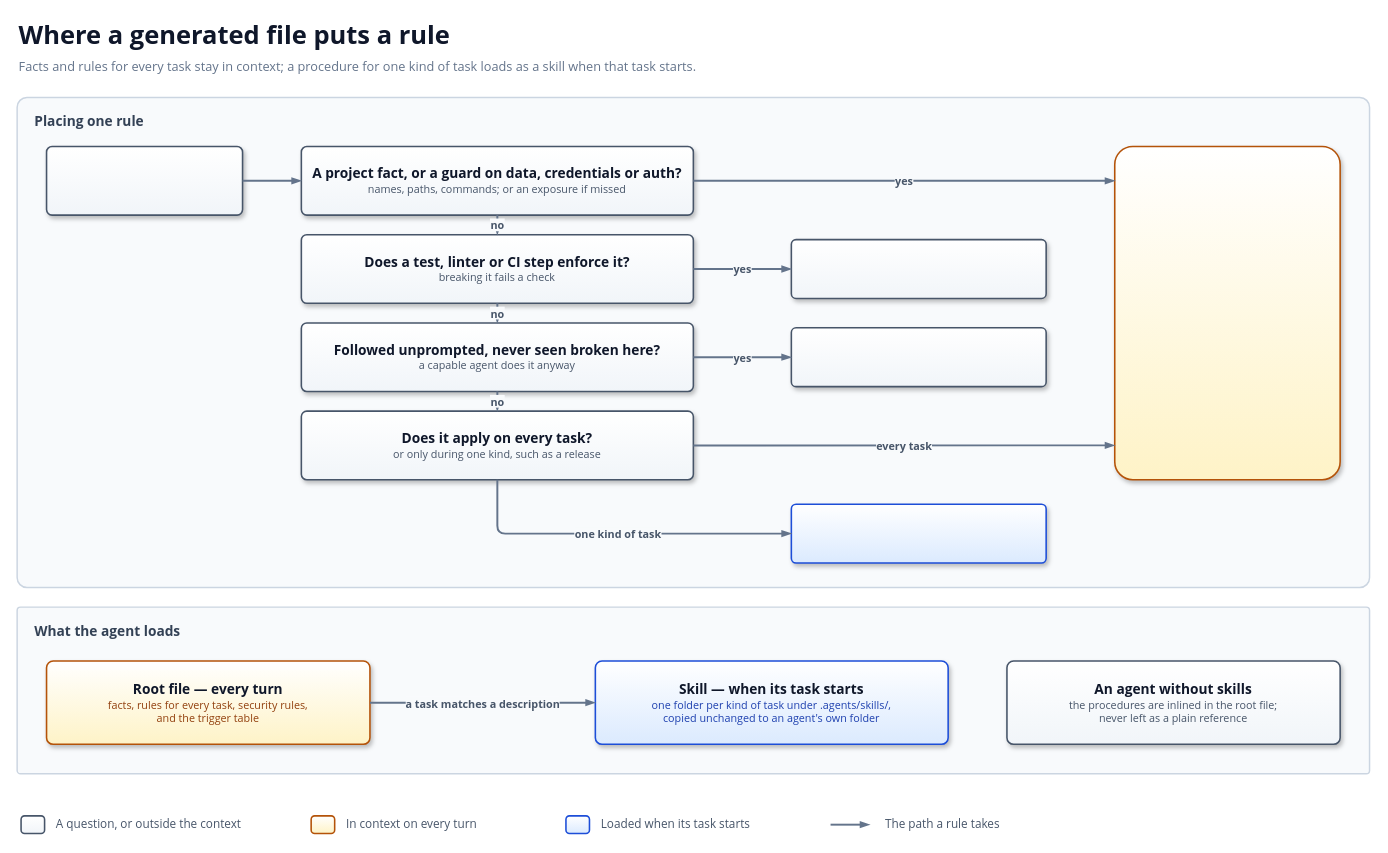
The diagram is 1388 pixels wide and 853 high, and some of its shapes have lost their labels. The shapes that lost their labels are listed below. From the top down, each one's centre as x and y in pixels, then its label:
At point (145, 181): "One rule from the template chain".
At point (919, 270): "Referenced named with the tool that enforces it".
At point (1228, 314): "Root file in context on every turn".
At point (919, 358): "Left out the templates keep it as the review standard".
At point (919, 534): "A skill for that task listed in the root file's trigger table".
